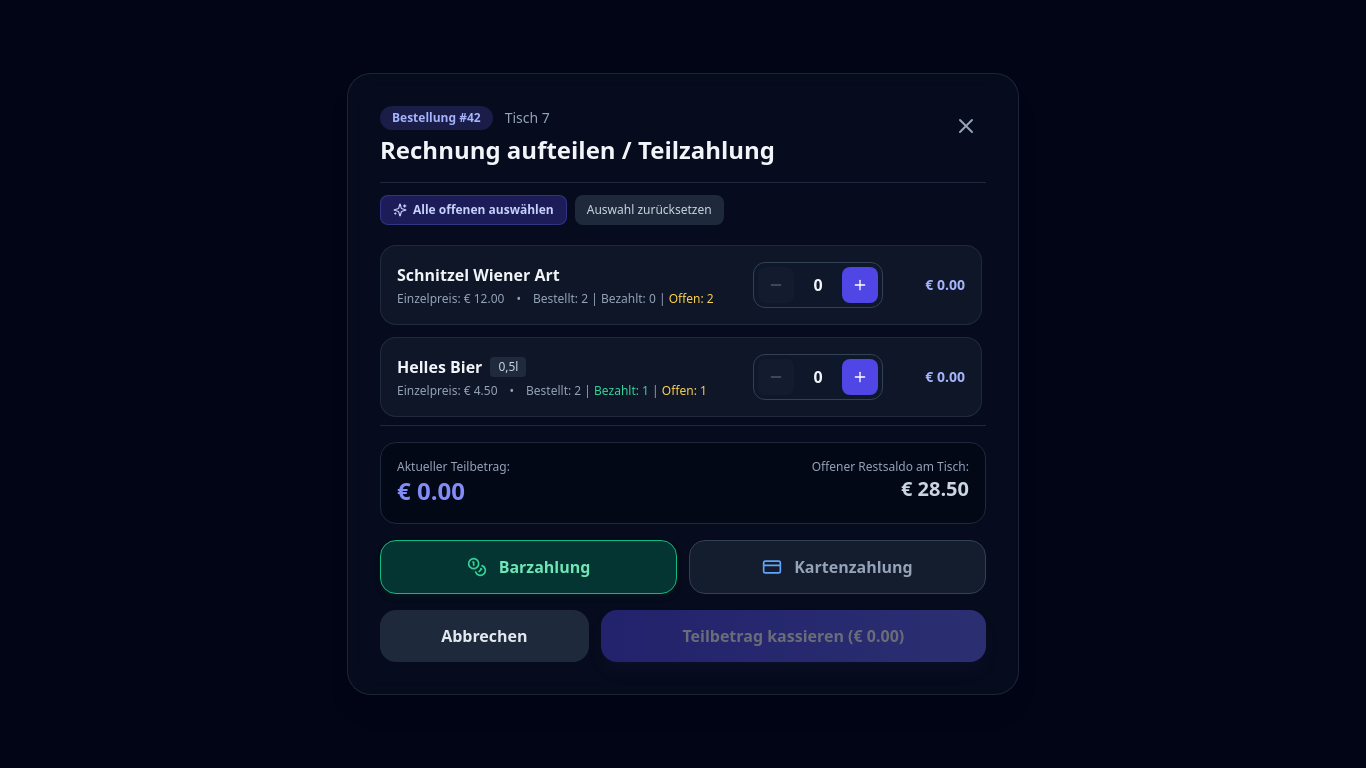
Test: OrderSplitModal (#136) › wählt mit 'Alle offenen auswählen' alle Restmengen aus
What coordinates should you click on to do the following:
click the button "Alle offenen auswählen"
I would click on:
 (473, 210)
Its box is [380,195,567,225].
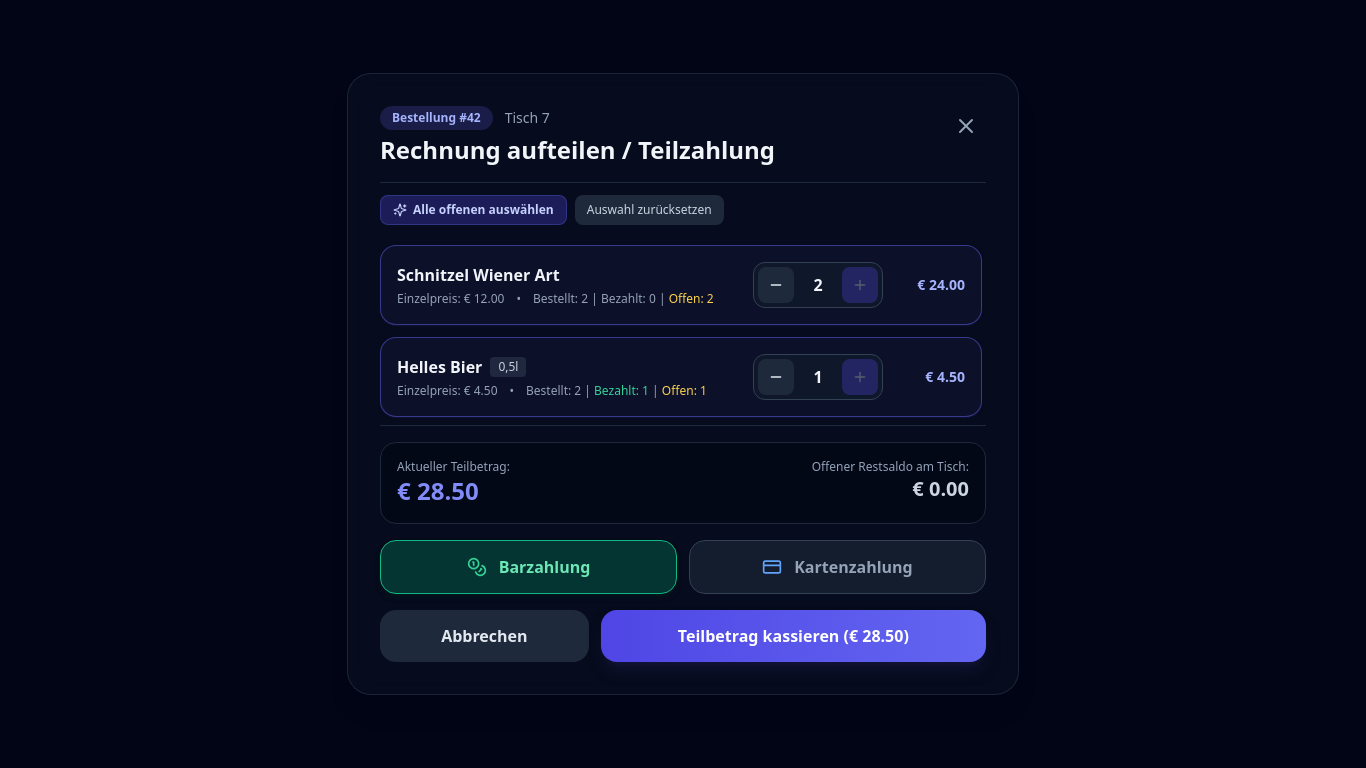
Result: the text with test id "selected-qty-item-1" reads "2" at [813,274,823,296]
Result: the text with test id "selected-qty-item-2" reads "1" at [813,366,823,388]
Result: the text with test id "split-total-cents" reads "€ 28.50" at [397,474,479,507]
